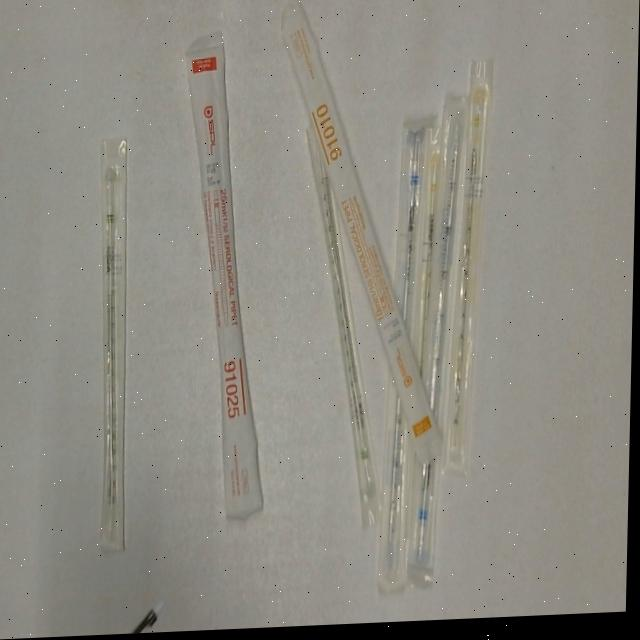Serelogical Pipet 1 mL - Sealed: (446, 61, 501, 477), (408, 131, 448, 385)
Serelogical Pipet 10 mL - Sealed: (271, 0, 456, 477)
Serelogical Pipet 2 mL - Sealed: (297, 125, 393, 540), (91, 133, 142, 567)
Serelogical Pipet 25 mL - Sealed: (176, 30, 275, 529)
Serelogical Pipet 5 mL - Sealed: (411, 99, 472, 580), (379, 120, 435, 594)
